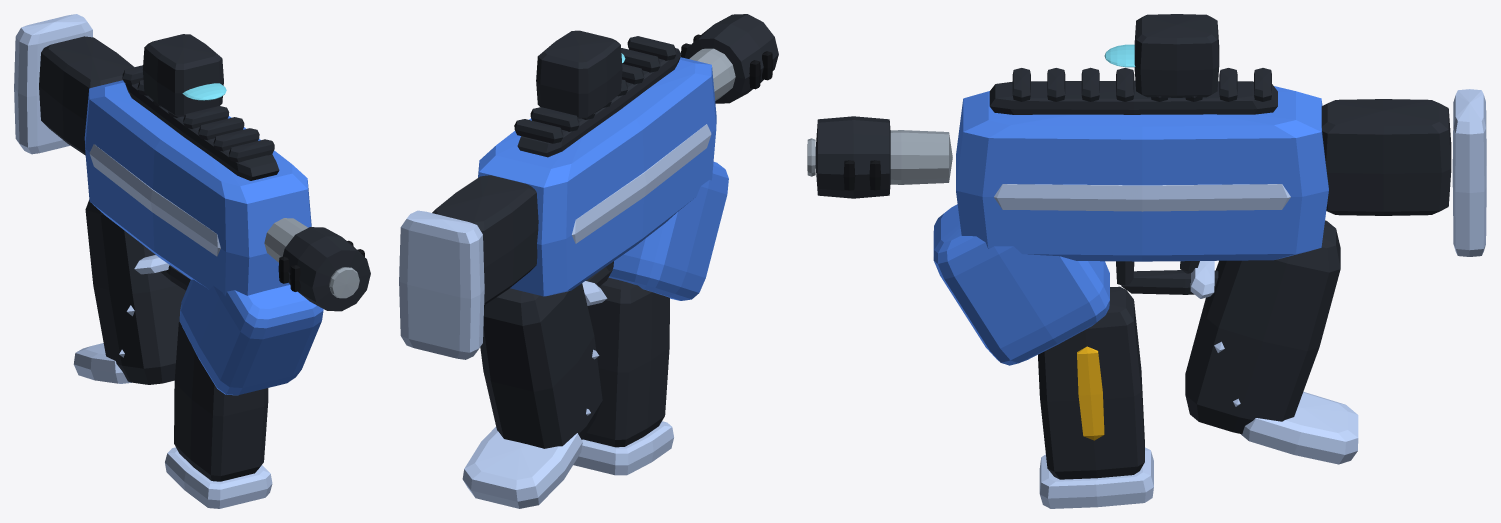
The model's file is g-smg-2.glb.
The picture shows the model from 3 angles, left to right: view 1: azimuth 30°, elevation 25°; view 2: azimuth 150°, elevation 25°; view 3: azimuth 270°, elevation 25°; orthographic projection. The views are drawn at different scales.
Visible parts, largest first — view 1: gun; view 2: gun; view 3: gun.
Boxes of the visible parts, x1,y1,x2,y2 form: gun: (14,14,370,508); gun: (399,14,778,508); gun: (807,14,1486,508).
Bounding box in the file's own units: 0.146 × 0.6006 × 0.7887.
